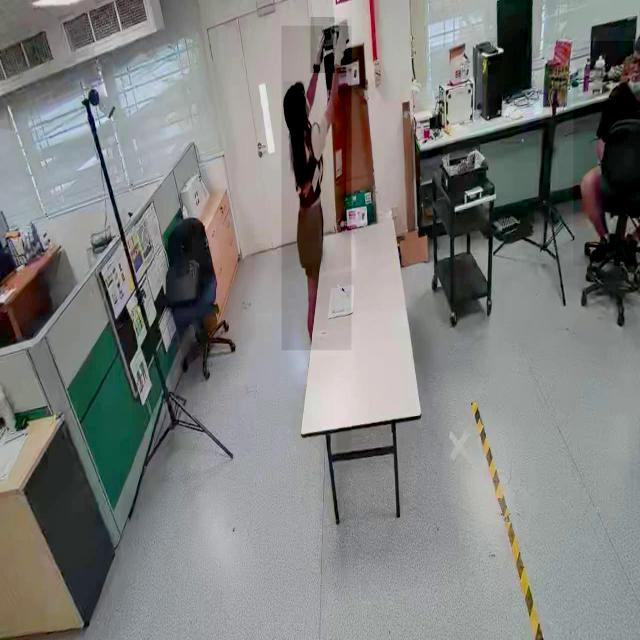hand_glove: (310, 17, 334, 74), (329, 18, 351, 74)
head_nohelmet: (283, 81, 305, 108), (632, 39, 640, 53)
person: (281, 26, 351, 351), (573, 41, 640, 267)
